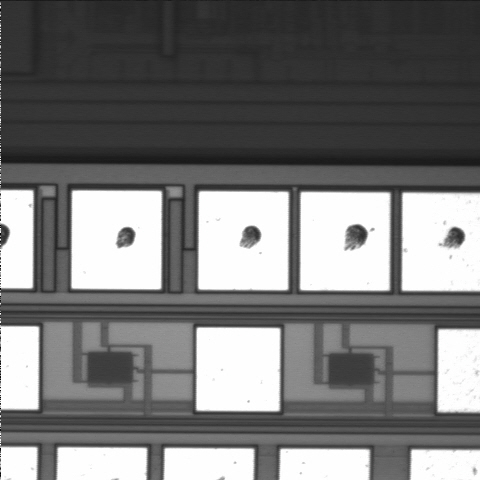pad: (198, 191, 288, 290), (300, 192, 390, 291), (72, 191, 162, 289), (196, 328, 280, 411)
